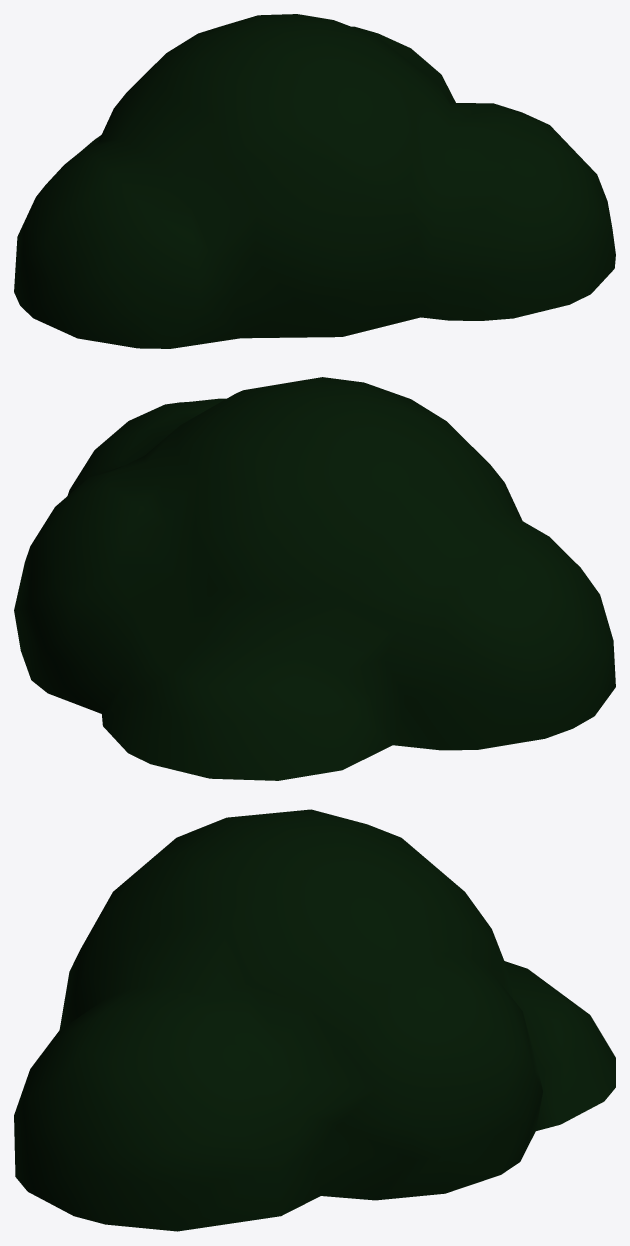
File: Prop_Bush_02.FBX
3 renders of one model, top to bottom at view 1: azimuth 30°, elevation 25°; view 2: azimuth 150°, elevation 25°; view 3: azimuth 270°, elevation 25°, orthographic. The views are drawn at different scales.
Parts seen in each view (by area): view 1: Prop_Bush_02; view 2: Prop_Bush_02; view 3: Prop_Bush_02.
Part boxes in pixels (x1,y1,x2,y2): Prop_Bush_02: (14,14,615,348); Prop_Bush_02: (14,377,615,780); Prop_Bush_02: (14,809,615,1231).
Size of the model in its own units: 111 by 46.19 by 98.75.
